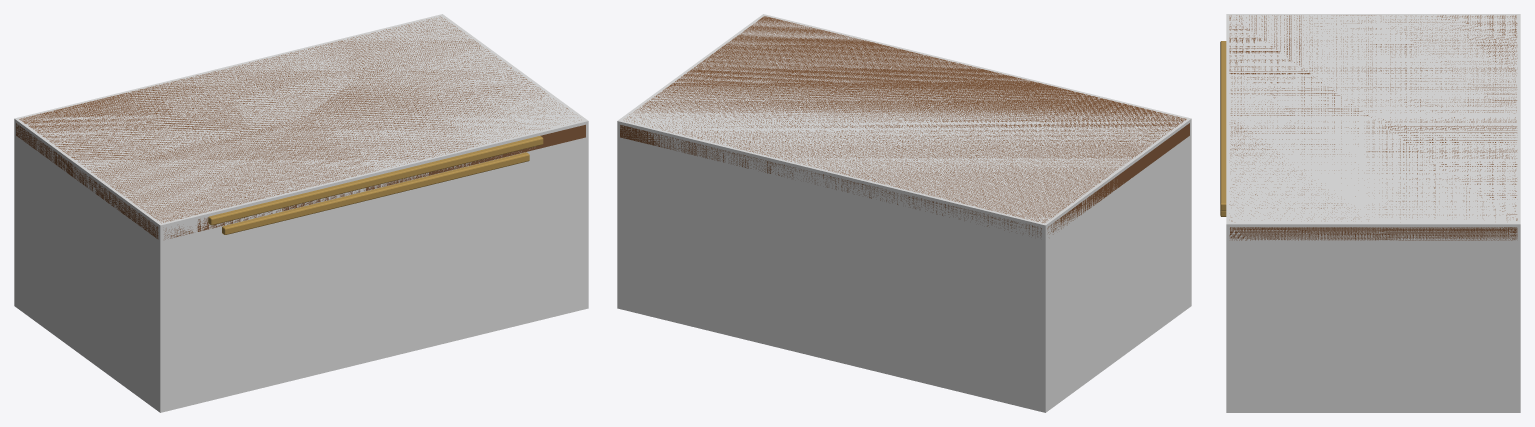
The model's file is coffee-table_luxury.glb.
The picture shows the model from 3 angles, left to right: view 1: azimuth 30°, elevation 25°; view 2: azimuth 150°, elevation 25°; view 3: azimuth 270°, elevation 25°; orthographic projection.
Visible parts, largest first — view 1: COL_coffee-table, MESH_Top, MESH_TierTrim_01, MESH_TierTrim_02; view 2: COL_coffee-table, MESH_Top; view 3: COL_coffee-table, MESH_Top, MESH_TierTrim_01.
Boxes of the visible parts, bbox=[...] form: COL_coffee-table: bbox=[14, 14, 588, 412]; MESH_Top: bbox=[16, 16, 585, 239]; MESH_TierTrim_01: bbox=[208, 136, 543, 225]; MESH_TierTrim_02: bbox=[222, 152, 529, 234]; COL_coffee-table: bbox=[617, 14, 1191, 412]; MESH_Top: bbox=[620, 16, 1189, 236]; COL_coffee-table: bbox=[1226, 14, 1520, 412]; MESH_Top: bbox=[1229, 15, 1517, 240]; MESH_TierTrim_01: bbox=[1220, 41, 1226, 210].
Size of the model in its own units: 1.1 by 0.46 by 0.663.
